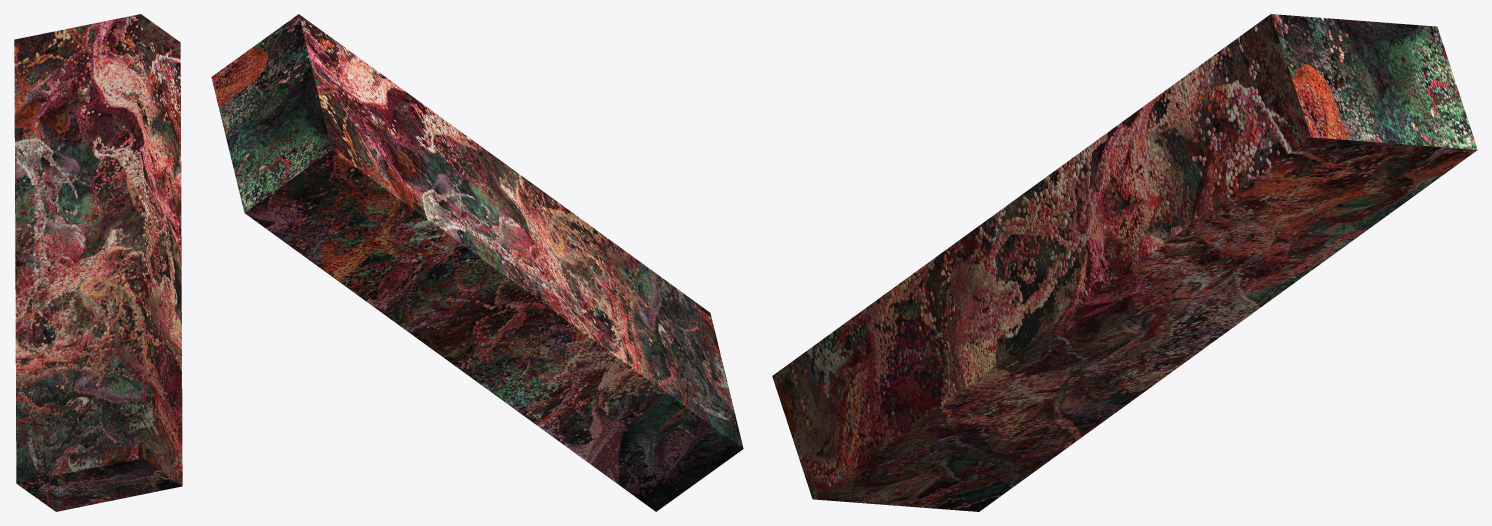
The model's file is asset.glb.
3 renders of one model, left to right at view 1: azimuth 30°, elevation 25°; view 2: azimuth 150°, elevation 25°; view 3: azimuth 270°, elevation 25°, orthographic. The views are drawn at different scales.
Parts seen in each view (by area): view 1: object_1.001; view 2: object_1.001; view 3: object_1.001.
Boxes of the visible parts, x1,y1,x2,y2 form: object_1.001: (14, 14, 182, 511); object_1.001: (211, 14, 743, 511); object_1.001: (772, 14, 1477, 511).
Bounding box in the file's own units: 18.55 × 24.83 × 24.94.
Materials: 1 (1 with a texture image).
